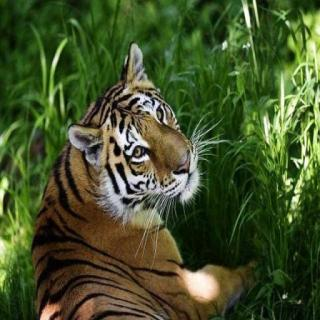Tiger: (23, 37, 260, 320)
